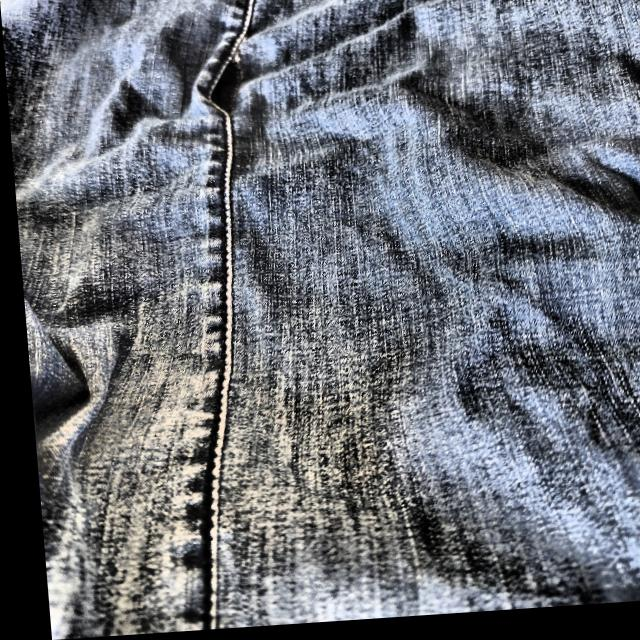seam: (192, 49, 254, 122)
